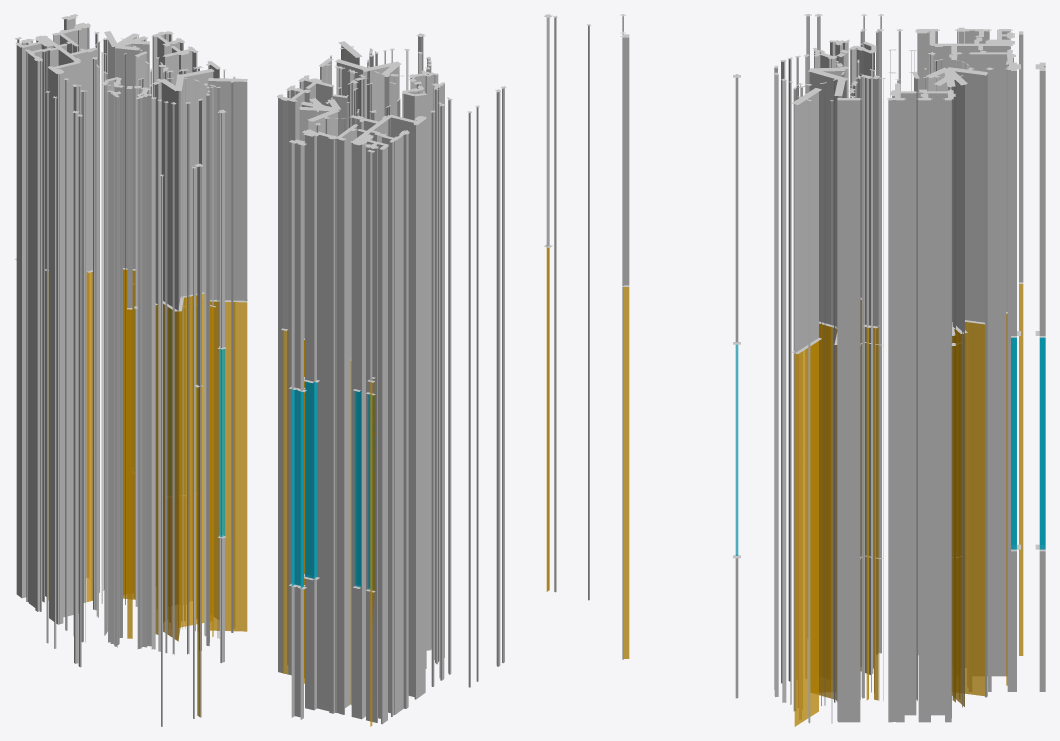
File: f845d409-2d82-408b-9f0c-adafc36a1ee1.glb
3 renders of one model, left to right at view 1: azimuth 30°, elevation 25°; view 2: azimuth 150°, elevation 25°; view 3: azimuth 270°, elevation 25°, orthographic. The views are drawn at different scales.
Parts seen in each view (by area): view 1: walls, doors, roof, windows; view 2: walls, windows, doors, roof; view 3: walls, doors, windows, roof.
Part boxes in pixels (box(x1,y1,x2,y2)): walls: box(14, 14, 247, 726); doors: box(48, 269, 247, 717); roof: box(15, 25, 235, 176); windows: box(170, 305, 224, 536); walls: box(278, 14, 589, 724); windows: box(291, 381, 375, 590); doors: box(282, 247, 549, 726); roof: box(277, 14, 591, 149); walls: box(622, 16, 1045, 723); doors: box(624, 284, 1023, 726); windows: box(735, 337, 1045, 557); roof: box(620, 14, 1015, 101).
Bounding box in the file's own units: 1.1 × 3.5 × 2.17.
